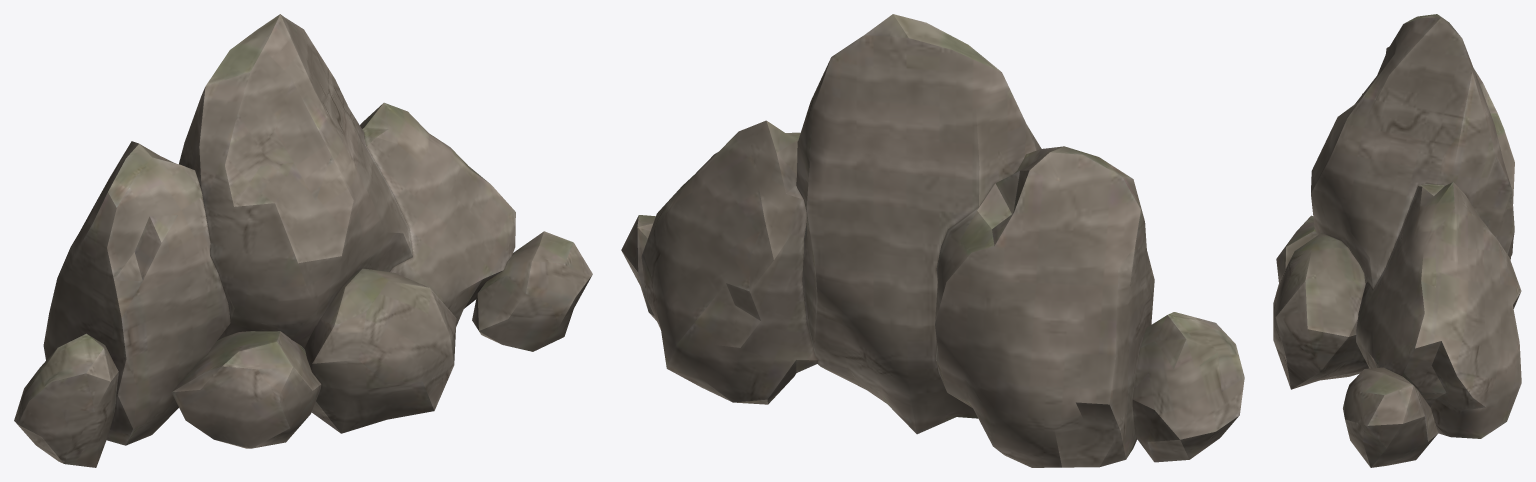
File: cliff.glb
3 views of the same model, side by side, from view 1: azimuth 30°, elevation 25°; view 2: azimuth 150°, elevation 25°; view 3: azimuth 270°, elevation 25° (orthographic). The views are drawn at different scales.
Parts seen in each view (by area): view 1: Cliff; view 2: Cliff; view 3: Cliff.
Part boxes in pixels (x1,y1,x2,y2): Cliff: (14, 14, 592, 467); Cliff: (621, 14, 1244, 467); Cliff: (1273, 14, 1521, 467).
Bounding box in the file's own units: 5.88 × 3.72 × 2.37.
Materials: 1 (1 with a texture image).
